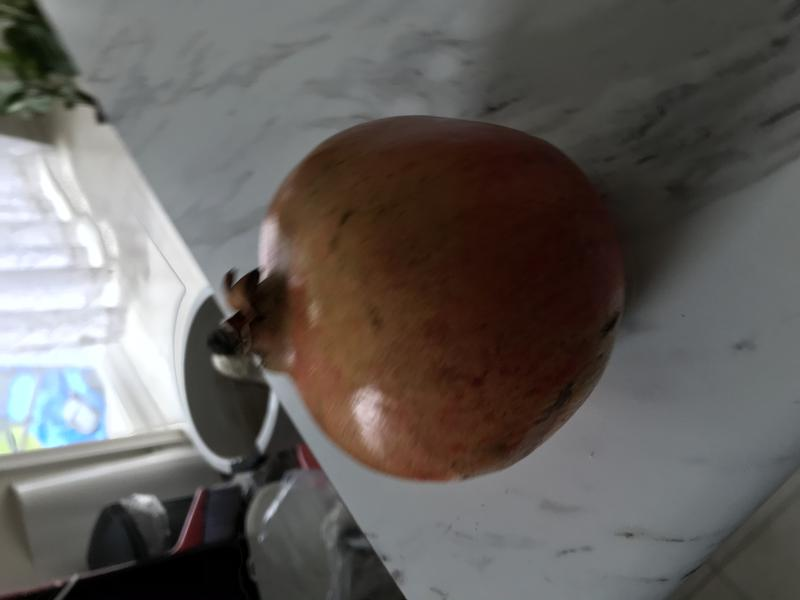pomegranate: (195, 97, 660, 496)
